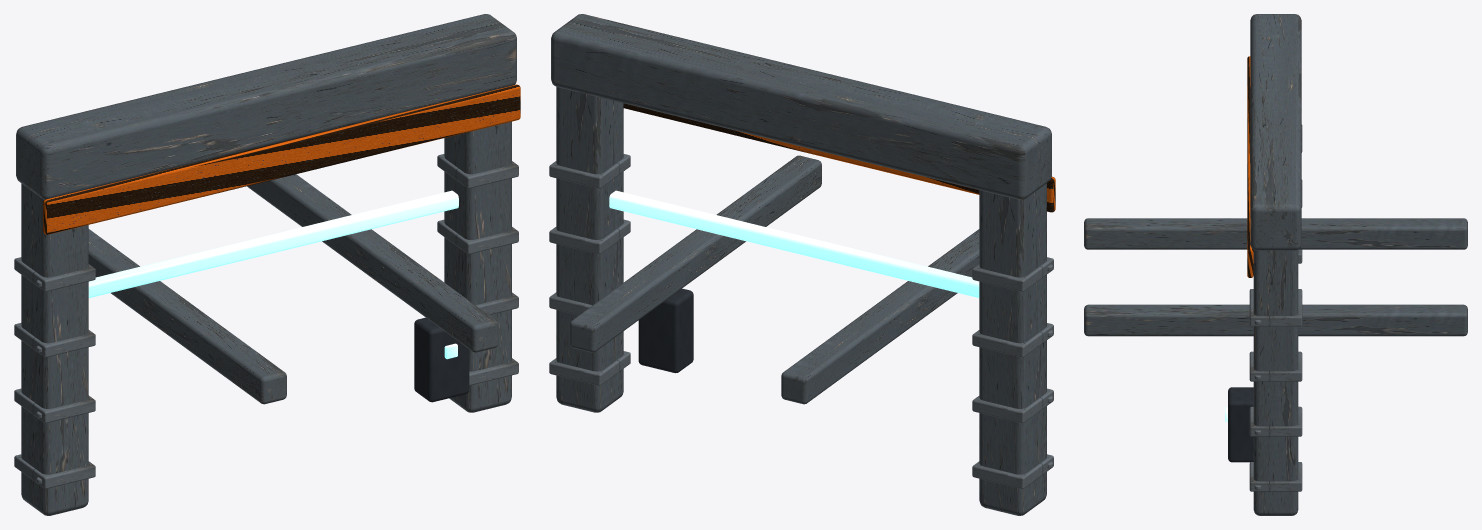
File: access_gate.glb
3 renders of one model, left to right at view 1: azimuth 30°, elevation 25°; view 2: azimuth 150°, elevation 25°; view 3: azimuth 270°, elevation 25°, orthographic. The views are drawn at different scales.
Parts seen in each view (by area): view 1: GateLintel, GateWarning, GatePostL, GatePostR, GateStrut1, GateStrut0, GateBar, GateControlBox, GatePlate_1_34, GatePlate_1_24, GatePlate_-1_5, GatePlate_-1_15 (+3 smaller); view 2: GateLintel, GatePostL, GatePostR, GateStrut1, GateStrut0, GateBar, GateControlBox, GateWarning, GatePlate_1_5, GatePlate_1_24, GatePlate_1_34, GatePlate_-1_5 (+3 smaller); view 3: GateLintel, GateStrut1, GateStrut0, GatePostR, GateControlBox, GateWarning, GatePlate_1_24, GatePlate_1_15, GatePlate_1_34, GatePlate_1_5.
Boxes of the visible parts, box(x1,y1,x2,y2) form: GateLintel: box(16, 14, 516, 199); GateWarning: box(43, 84, 520, 234); GatePostL: box(21, 183, 88, 515); GatePostR: box(444, 121, 511, 412); GateStrut1: box(247, 174, 498, 352); GateStrut0: box(88, 229, 286, 404); GateBar: box(88, 190, 458, 297); GateControlBox: box(414, 317, 469, 402); GatePlate_1_34: box(437, 154, 518, 188); GatePlate_1_24: box(437, 219, 518, 254); GatePlate_-1_5: box(14, 454, 95, 488); GatePlate_-1_15: box(14, 388, 95, 423); GateLintel: box(551, 14, 1051, 199); GatePostL: box(979, 183, 1046, 515); GatePostR: box(556, 87, 623, 412); GateStrut1: box(569, 155, 821, 352); GateStrut0: box(781, 229, 979, 404); GateBar: box(609, 190, 979, 297); GateControlBox: box(638, 288, 693, 373); GateWarning: box(623, 103, 1055, 212); GatePlate_1_5: box(549, 351, 630, 385); GatePlate_1_24: box(549, 219, 630, 254); GatePlate_1_34: box(549, 154, 630, 188); GatePlate_-1_5: box(972, 454, 1053, 488); GateLintel: box(1250, 14, 1301, 250); GateStrut1: box(1084, 304, 1467, 336); GateStrut0: box(1084, 218, 1467, 249); GatePostR: box(1253, 250, 1298, 515); GateControlBox: box(1228, 387, 1253, 462); GateWarning: box(1247, 56, 1253, 277); GatePlate_1_24: box(1249, 351, 1302, 381); GatePlate_1_15: box(1249, 406, 1302, 436); GatePlate_1_34: box(1249, 296, 1302, 326); GatePlate_1_5: box(1249, 462, 1302, 491).
Bounding box in the file's own units: 7.27 × 5.4 × 6.
5 materials, 5 textured.
